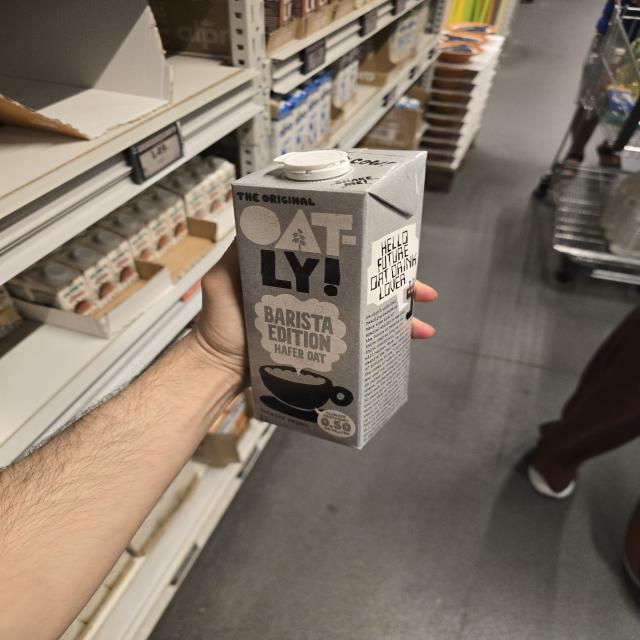Milk: (233, 145, 429, 449)
